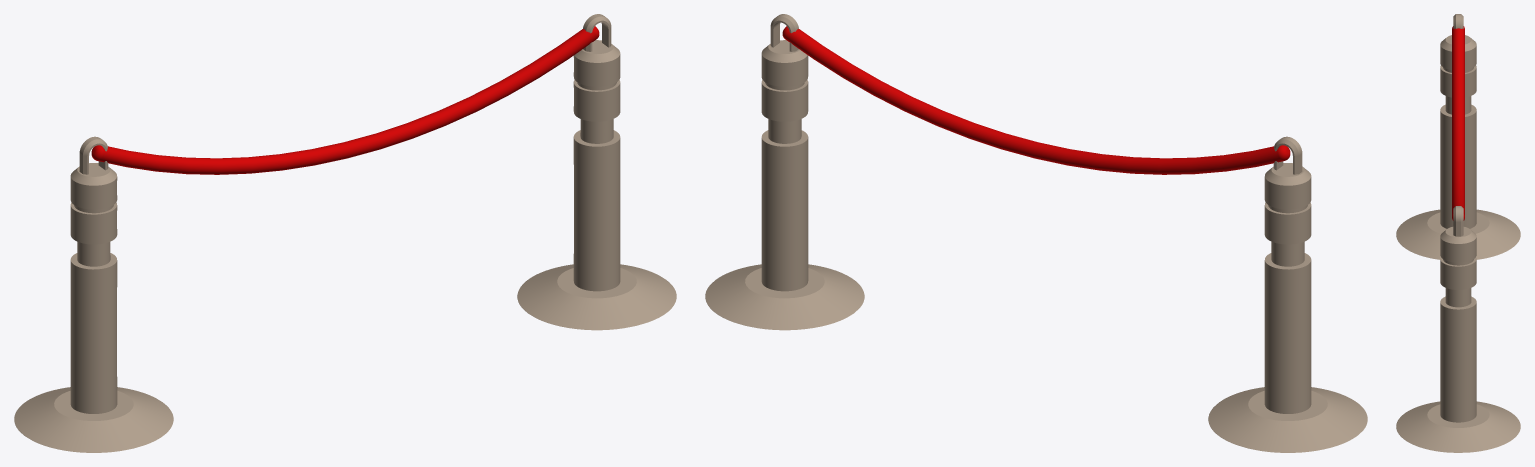
The model's file is 0008_paulfence.glb.
3 views of the same model, side by side, from view 1: azimuth 30°, elevation 25°; view 2: azimuth 150°, elevation 25°; view 3: azimuth 270°, elevation 25° (orthographic). The views are drawn at different scales.
Visible parts, largest first — view 1: Body3; view 2: Body3; view 3: Body3.
Boxes of the visible parts, x1,y1,x2,y2 form: Body3: (14,14,676,452); Body3: (705,14,1367,452); Body3: (1396,14,1520,452).
Bounding box in the file's own units: 25.18 × 10.54 × 5.42.
